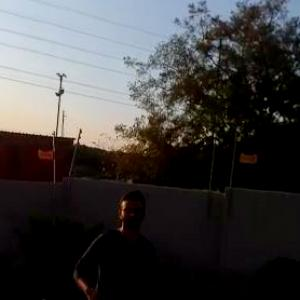follow: (66, 173, 164, 299)
